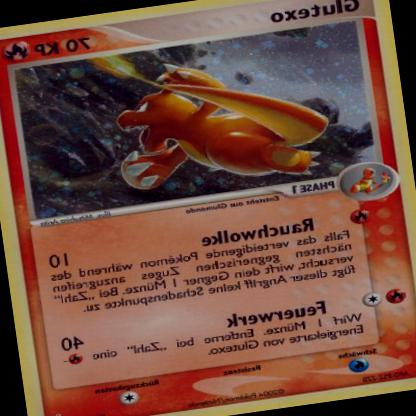Charmeleon: (98, 40, 339, 203)
